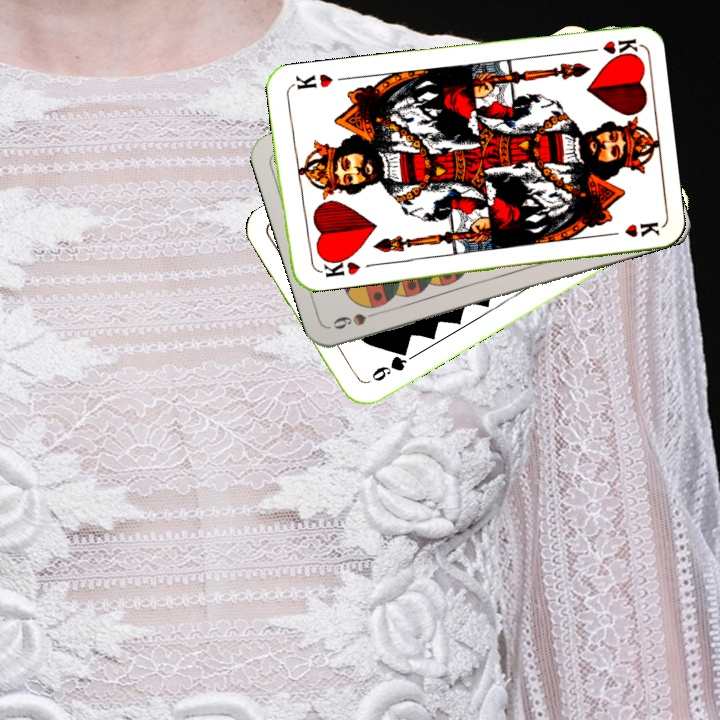G9: (367, 344, 411, 384)
HK: (579, 35, 639, 61), (312, 251, 363, 280)
S9: (328, 305, 387, 332)
